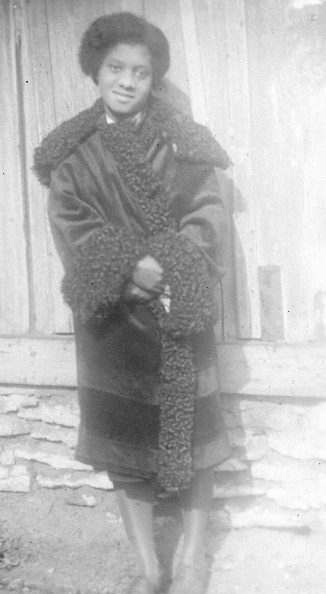em pe: (39, 5, 239, 475)
